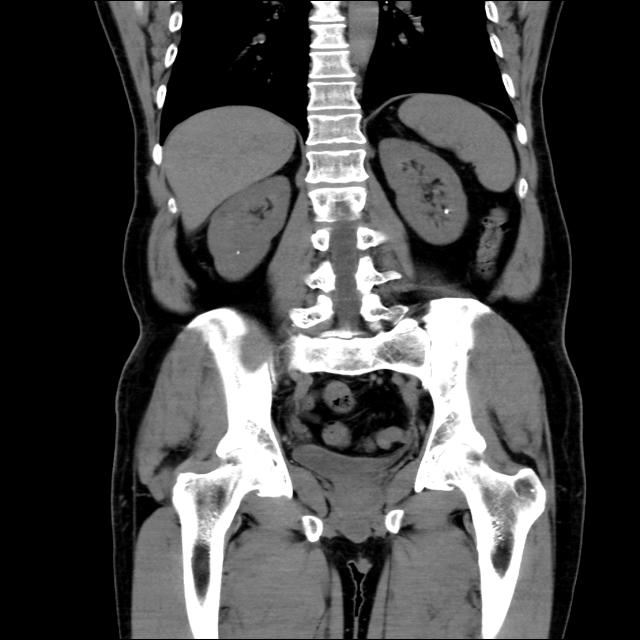kidneystone: (443, 209, 449, 214)
